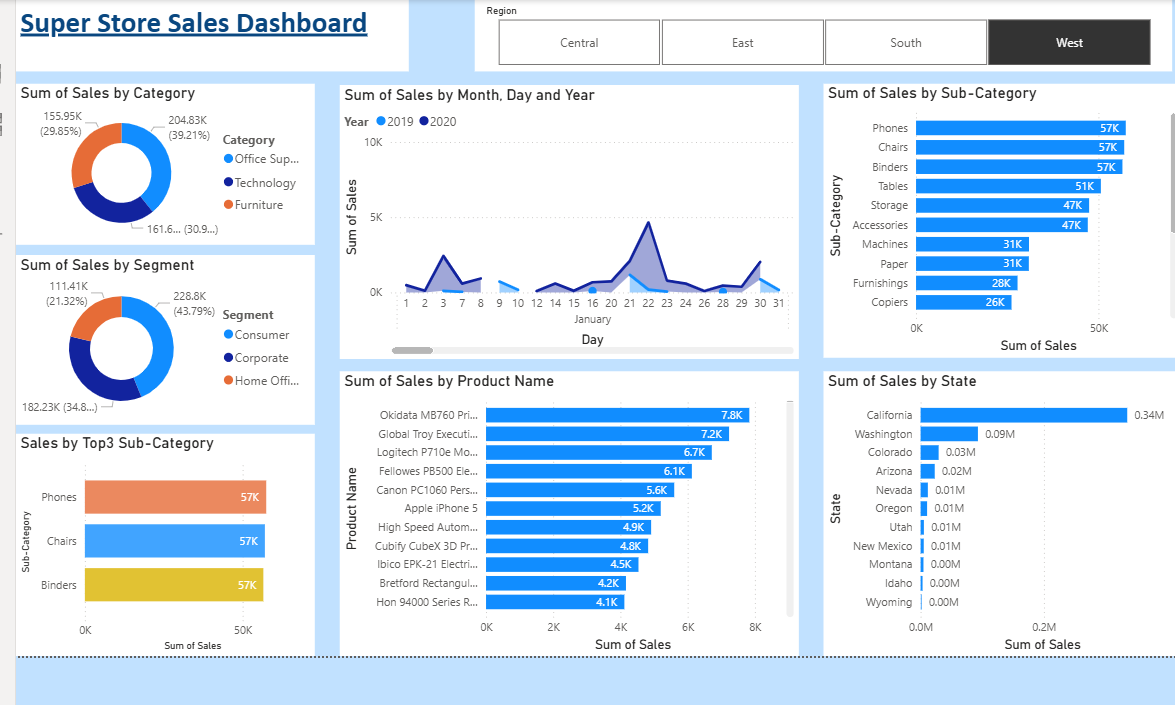

The page's visual inventory and layout, read from the dashboard file:
{"tool":"powerbi","page":{"name":"Page 1","canvas":[1280,720],"ordinal":0},"visuals":[{"type":"barChart","fields":{"Y":["Sum(SuperStore_Sales_Dataset.Sales)"],"Category":["SuperStore_Sales_Dataset.Sub-Category"]},"box":[886.5,208.6,393.8,248.4],"z":0},{"type":"barChart","title":"Sales by Top3 Sub-Category","fields":{"Y":["Sum(SuperStore_Sales_Dataset.Sales)"],"Category":["SuperStore_Sales_Dataset.Sub-Category"]},"box":[0,497.5,342,223.1],"z":1000},{"type":"stackedAreaChart","fields":{"Y":["Sum(SuperStore_Sales_Dataset.Sales)"],"Series":["SuperStore_Sales_Dataset.Order Date.Variation.Date Hierarchy.Year"],"Category":["SuperStore_Sales_Dataset.Order Date.Variation.Date Hierarchy.Month","SuperStore_Sales_Dataset.Order Date.Variation.Date Hierarchy.Day"]},"box":[355.4,208.6,503.6,248.4],"z":2000},{"type":"donutChart","fields":{"Category":["SuperStore_Sales_Dataset.Segment"],"Y":["Sum(SuperStore_Sales_Dataset.Sales)"]},"box":[0,297.4,342,190.6],"z":3000},{"type":"slicer","fields":{"Values":["SuperStore_Sales_Dataset.Region"]},"box":[503.6,0,765.7,78.2],"z":4000},{"type":"textbox","box":[0,0,430.9,78.2],"z":5000},{"type":"barChart","fields":{"Y":["Sum(SuperStore_Sales_Dataset.Sales)"],"Category":["SuperStore_Sales_Dataset.State"]},"box":[872.7,476.2,407.5,244.3],"z":6000},{"type":"donutChart","fields":{"Y":["Sum(SuperStore_Sales_Dataset.Sales)"],"Category":["SuperStore_Sales_Dataset.Category"]},"box":[0,91.9,342,196],"z":7000},{"type":"barChart","fields":{"Y":["Sum(SuperStore_Sales_Dataset.Sales)"],"Category":["SuperStore_Sales_Dataset.Product Name"]},"box":[355.4,476.2,503.6,244.3],"z":8000},{"type":"cardVisual","fields":{"Data":["Sheet1.Total Sales"]},"box":[355.6,91.9,179.8,98.7],"z":9000},{"type":"cardVisual","fields":{"Data":["Sheet1.Total Profit"]},"box":[588.1,91.9,187.9,98.7],"z":10000},{"type":"cardVisual","fields":{"Data":["Sheet1.Profit Margin %"]},"box":[826,91.9,190.6,98.7],"z":11000},{"type":"cardVisual","fields":{"Data":["Sum(Sheet1.Quantity)"]},"box":[1066.7,91.9,190.6,98.7],"z":11001}]}

Visuals, with their boxes on the page's 1280x720 design canvas (x1, y1, x2, y2). These are canvas units, not pixel positions in the 1175x705 screenshot, which may show the page scaled, cropped or inside an application window:
barChart - Sum(SuperStore_Sales_Dataset.Sales) x SuperStore_Sales_Dataset.Sub-Category: [x1=886, y1=209, x2=1280, y2=457]
"Sales by Top3 Sub-Category" barChart: [x1=0, y1=498, x2=342, y2=721]
stackedAreaChart - Sum(SuperStore_Sales_Dataset.Sales) x SuperStore_Sales_Dataset.Order Date.Variation.Date Hierarchy.Year: [x1=355, y1=209, x2=859, y2=457]
donutChart - SuperStore_Sales_Dataset.Segment x Sum(SuperStore_Sales_Dataset.Sales): [x1=0, y1=297, x2=342, y2=488]
slicer - SuperStore_Sales_Dataset.Region: [x1=504, y1=0, x2=1269, y2=78]
textbox: [x1=0, y1=0, x2=431, y2=78]
barChart - Sum(SuperStore_Sales_Dataset.Sales) x SuperStore_Sales_Dataset.State: [x1=873, y1=476, x2=1280, y2=720]
donutChart - Sum(SuperStore_Sales_Dataset.Sales) x SuperStore_Sales_Dataset.Category: [x1=0, y1=92, x2=342, y2=288]
barChart - Sum(SuperStore_Sales_Dataset.Sales) x SuperStore_Sales_Dataset.Product Name: [x1=355, y1=476, x2=859, y2=720]
cardVisual - Sheet1.Total Sales: [x1=356, y1=92, x2=535, y2=191]
cardVisual - Sheet1.Total Profit: [x1=588, y1=92, x2=776, y2=191]
cardVisual - Sheet1.Profit Margin %: [x1=826, y1=92, x2=1017, y2=191]
cardVisual - Sum(Sheet1.Quantity): [x1=1067, y1=92, x2=1257, y2=191]
